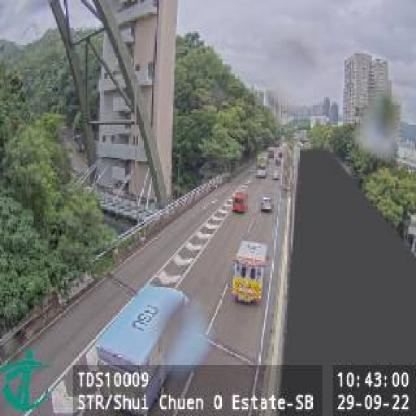Bus: (96, 278, 204, 400)
Car: (229, 237, 273, 304), (232, 184, 250, 213), (255, 151, 269, 178), (259, 196, 273, 211), (269, 165, 281, 182)
